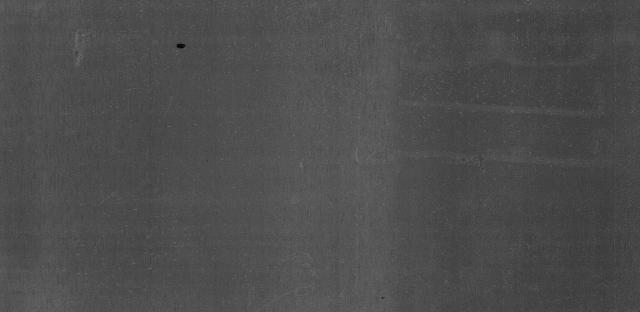inclusion: (171, 39, 189, 53)
